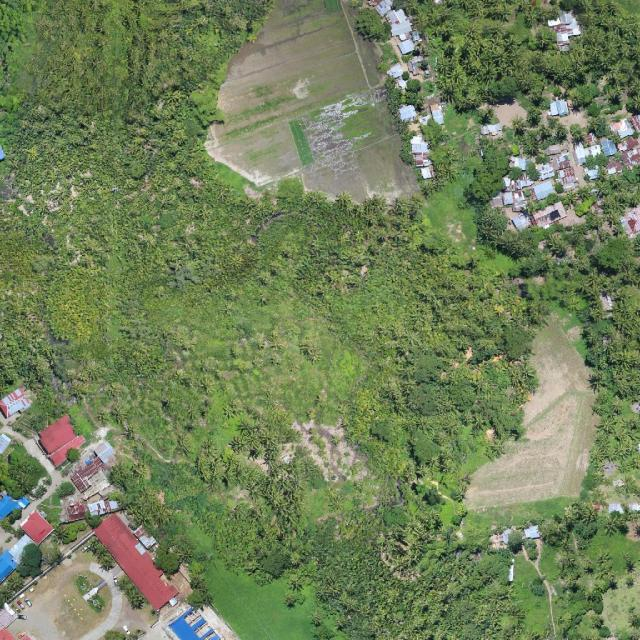building: (0, 400, 250, 640), (479, 78, 640, 250)
greenland: (427, 129, 491, 251)
